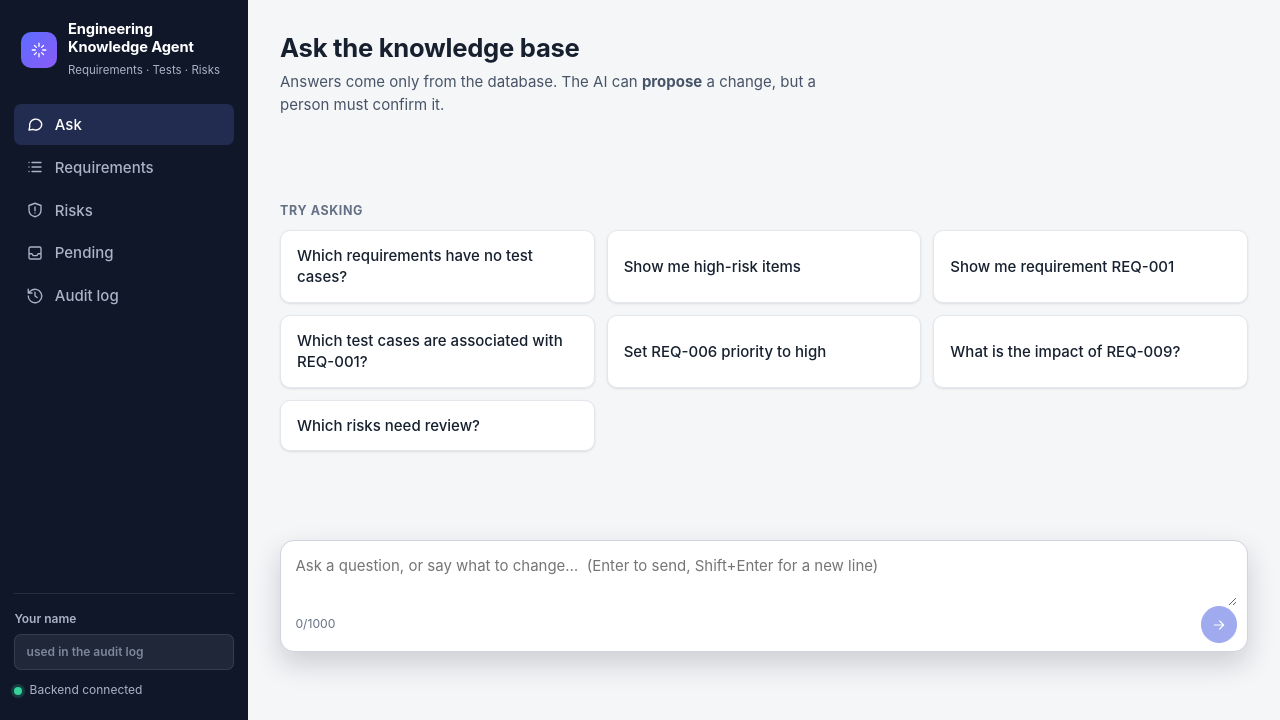
chat › shows the answer, its verdict and the records behind it
Type "Which requirements have no tests?" into the text box named "Your message".
click(766, 577); type("Which requirements have no tests?")  # box [295,548,1237,606]
Then press Enter
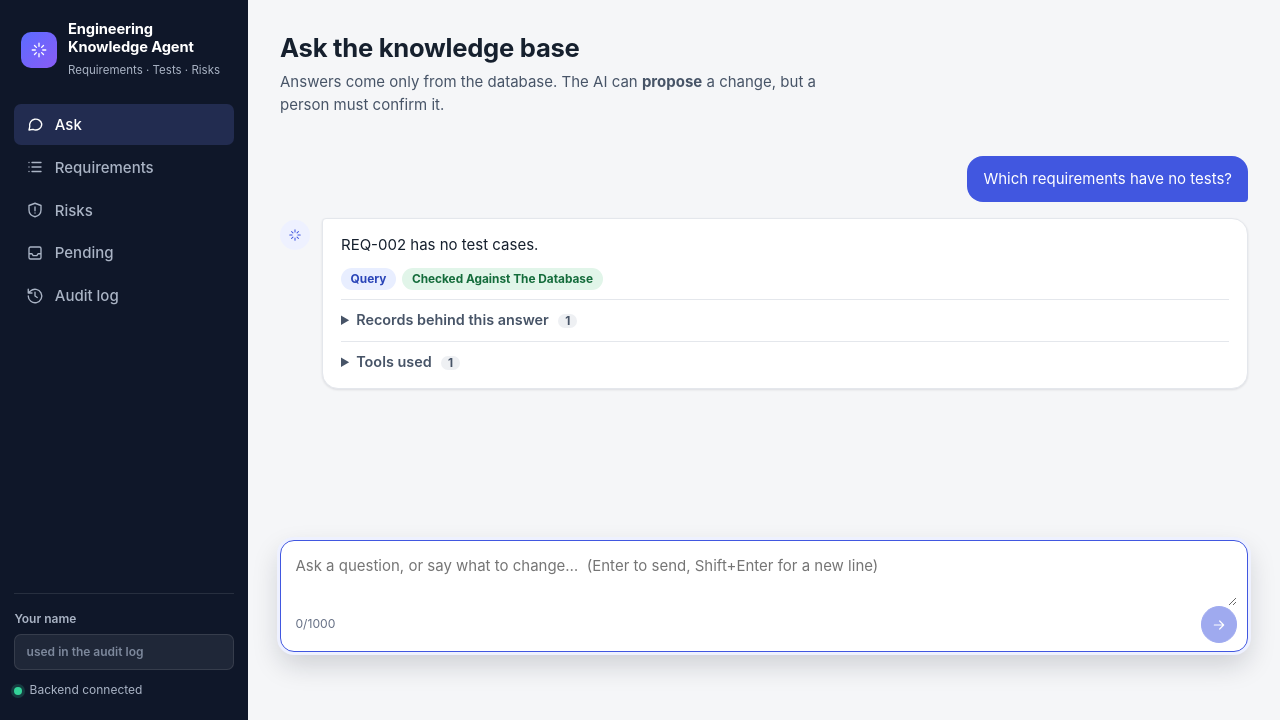
Now the text "REQ-002 has no test cases." is shown, box [341,235,538,254]
Now the text "Checked against the database" is shown, box [402,268,603,290]
Now the heading "Records behind this answer 1" is shown, box [356,311,577,328]
